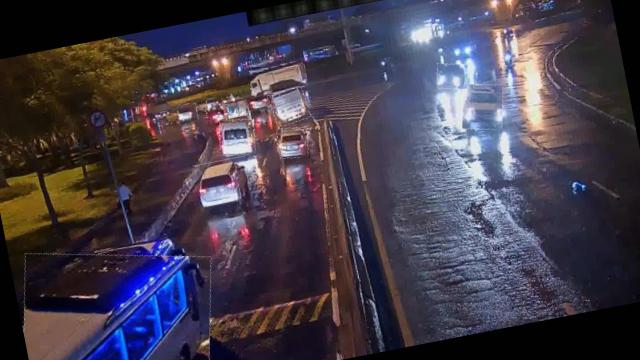Bus: (11, 228, 228, 360), (216, 115, 259, 158)
Car: (192, 156, 254, 213), (457, 78, 509, 134), (274, 124, 311, 161), (434, 60, 471, 92), (174, 102, 198, 122)
Truck: (249, 60, 309, 96), (266, 78, 310, 126)
